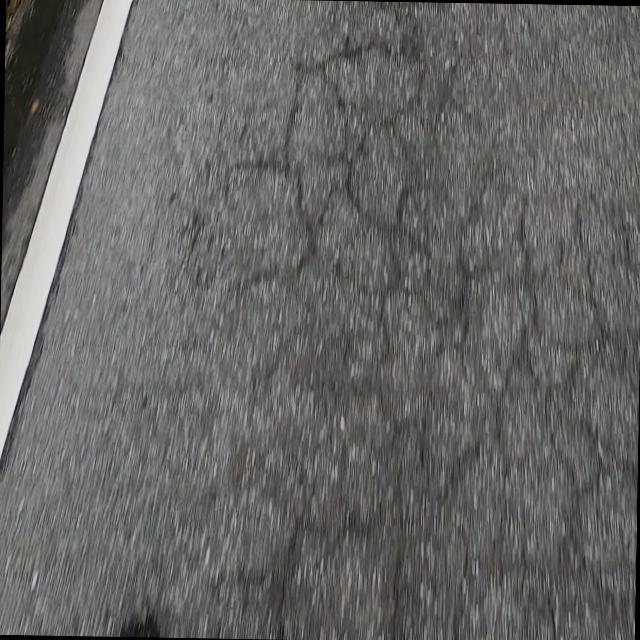Retak-Buaya: (224, 1, 637, 640)
